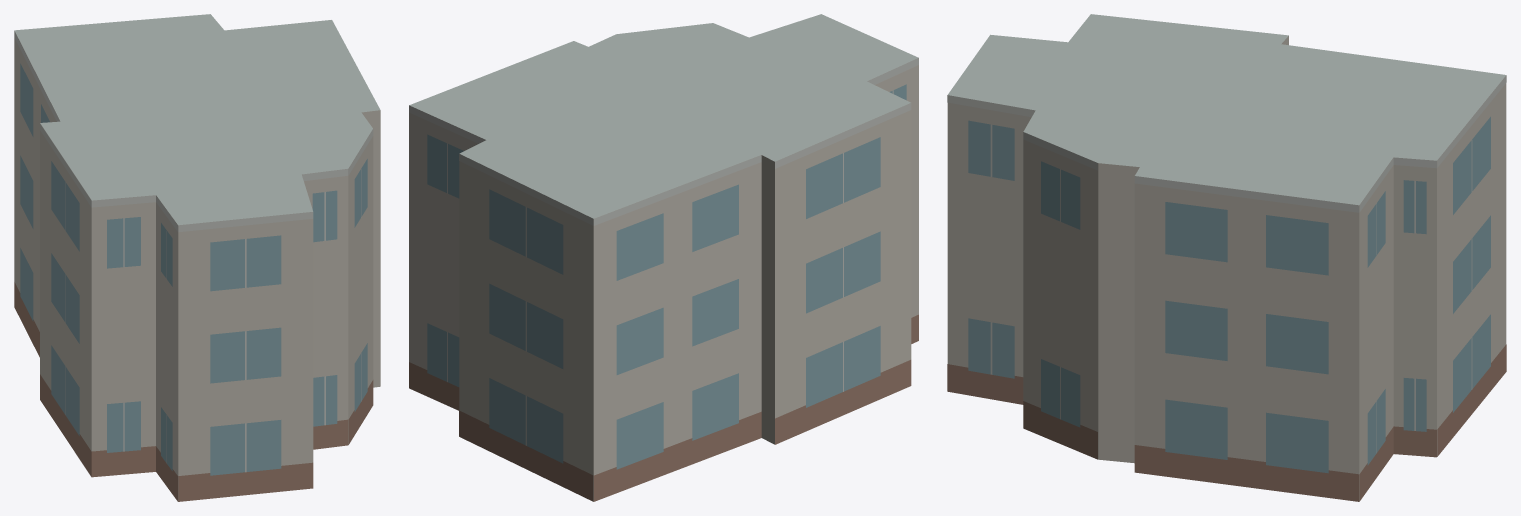
Rendered from survey-upis-33004132.glb.
3 renders of one model, left to right at view 1: azimuth 30°, elevation 25°; view 2: azimuth 150°, elevation 25°; view 3: azimuth 270°, elevation 25°, orthographic. The views are drawn at different scales.
Visible parts, largest first — view 1: survey-upis-33004132.tmp; view 2: survey-upis-33004132.tmp; view 3: survey-upis-33004132.tmp.
Boxes of the visible parts, bbox=[...] form: survey-upis-33004132.tmp: bbox=[14, 14, 380, 501]; survey-upis-33004132.tmp: bbox=[409, 14, 918, 501]; survey-upis-33004132.tmp: bbox=[947, 14, 1506, 501].
Bounding box in the file's own units: 13.29 × 9.6 × 16.41.
